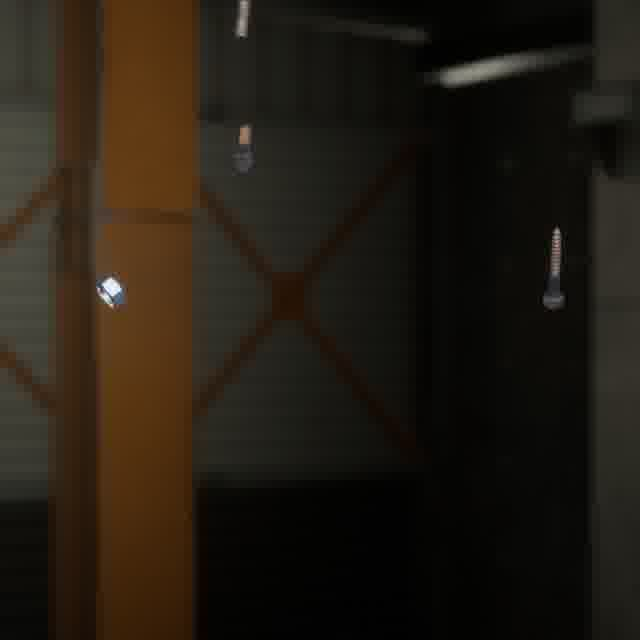bolt: (538, 222, 568, 313), (224, 120, 260, 177), (229, 0, 256, 45)
nut: (91, 271, 131, 311)
